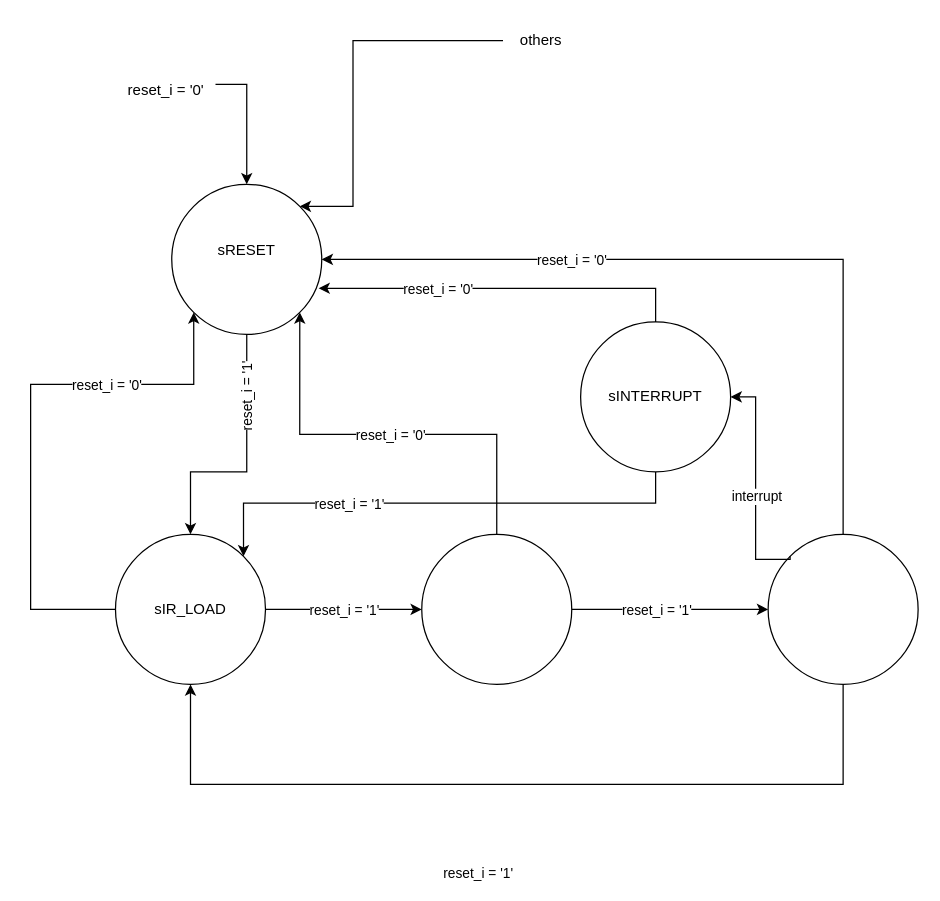
Image size: 940x901. Some labels were removed from this diagram. The centre of each missing label's shape, as x and y in pixels:
sIR_DECODE: (x=496, y=608)
sOPCODE_DECODE: (x=842, y=608)
